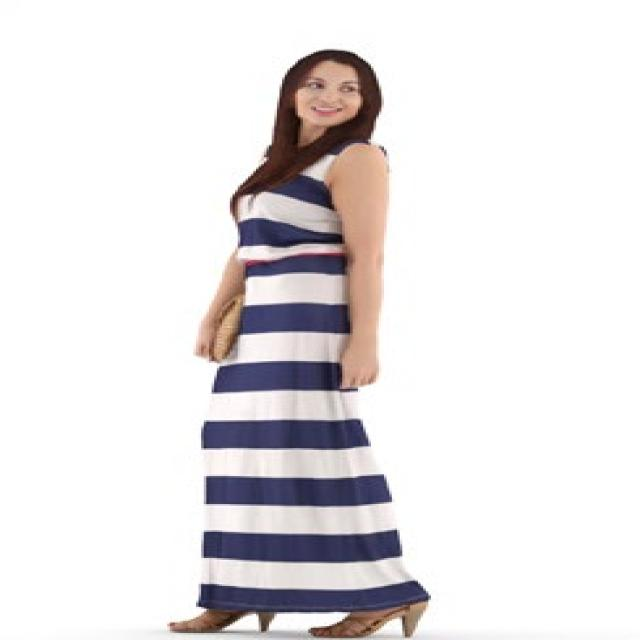standing: (164, 49, 433, 640)
